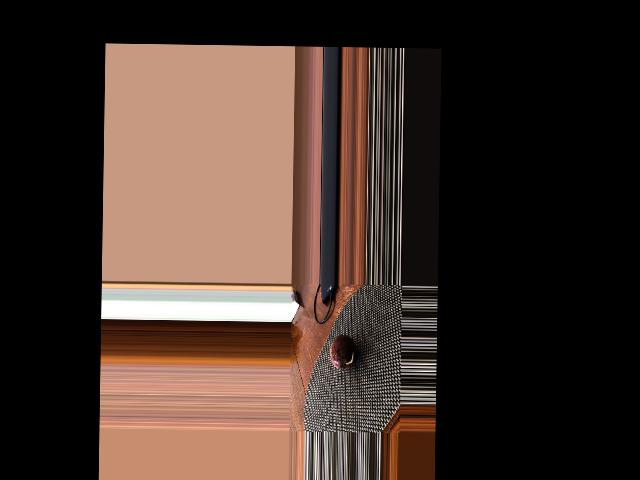beet: (329, 334, 356, 368)
